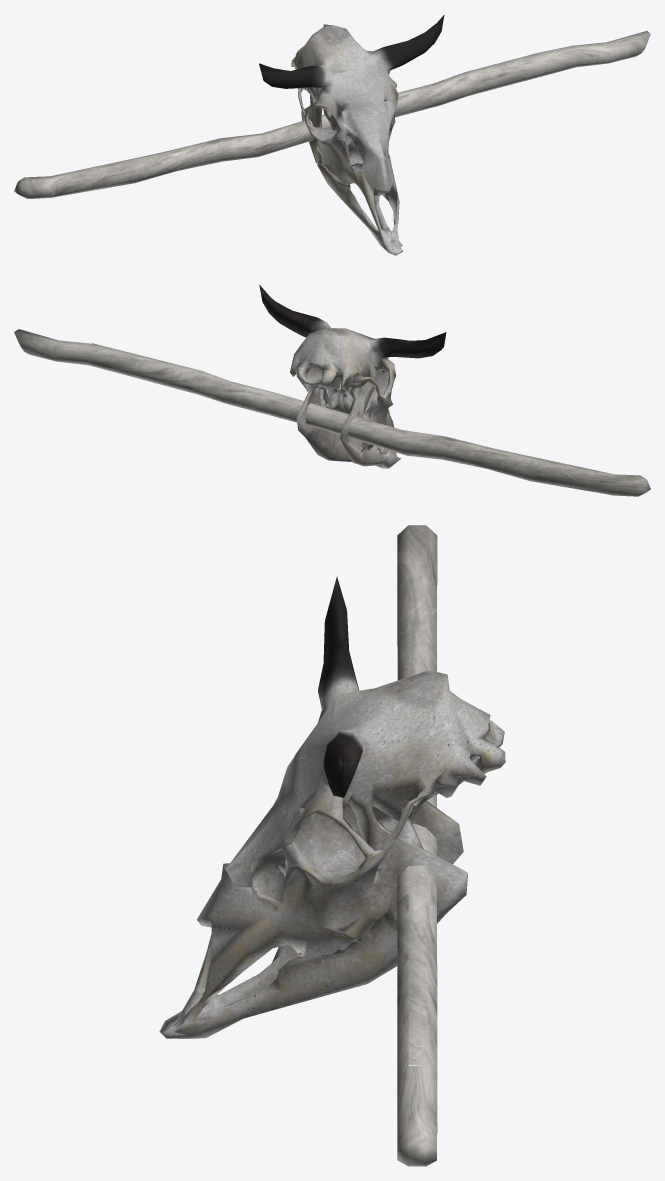
File: palka_4.glb
The picture shows the model from 3 angles, top to bottom: view 1: azimuth 30°, elevation 25°; view 2: azimuth 150°, elevation 25°; view 3: azimuth 270°, elevation 25°; orthographic projection. The views are drawn at different scales.
Visible parts, largest first — view 1: palka_4; view 2: palka_4; view 3: palka_4.
Boxes of the visible parts, x1=… form: palka_4: x1=14, y1=15, x2=650, y2=255; palka_4: x1=14, y1=285, x2=650, y2=496; palka_4: x1=159, y1=525, x2=505, y2=1166.
Bounding box in the file's own units: 84.25 × 24.01 × 19.96.
2 materials, 2 textured.
